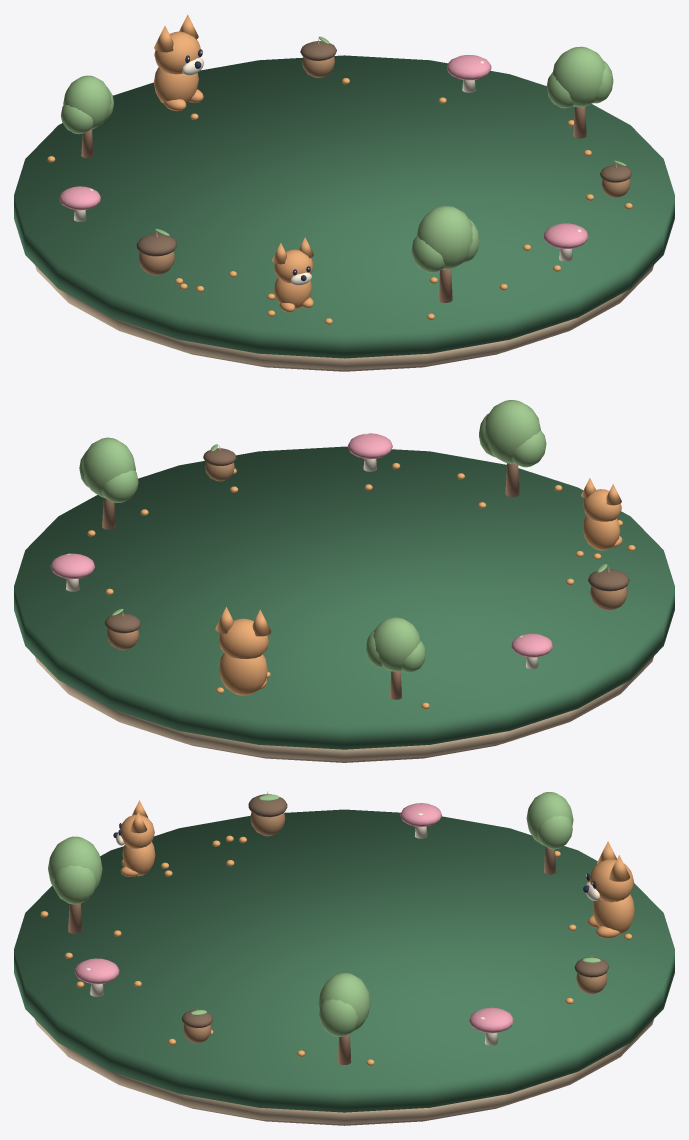
Rendered from world.glb.
The picture shows the model from 3 angles, top to bottom: view 1: azimuth 30°, elevation 25°; view 2: azimuth 150°, elevation 25°; view 3: azimuth 270°, elevation 25°; orthographic projection.
Parts seen in each view (by area): view 1: Cone, Cone.001, tree.003, tree.001, fox.001, tree.002, fox.002, acorn.002, acorn.001, mushroom.003, mushroom.001, mushroom.002 (+2 smaller); view 2: Cone, Cone.001, tree.003, fox.001, tree.001, tree.002, fox.002, acorn.002, acorn.001, mushroom.003, mushroom.001, mushroom.002 (+2 smaller); view 3: Cone, Cone.001, fox.001, tree.003, tree.001, tree.002, fox.002, acorn.002, mushroom.003, mushroom.001, acorn.001, mushroom.002 (+2 smaller).
Boxes of the visible parts, x1,y1,x2,y2 form: Cone: (14,55,674,358); Cone.001: (35,265,653,370); tree.003: (411,206,479,302); tree.001: (546,46,613,138); fox.001: (154,14,203,111); tree.002: (61,75,113,158); fox.002: (272,237,313,312); acorn.002: (136,228,176,275); acorn.001: (300,36,336,77); mushroom.003: (543,223,588,261); mushroom.001: (447,55,491,92); mushroom.002: (59,186,100,221); Cone: (14,446,674,749); Cone.001: (35,656,653,761); tree.003: (479,400,546,496); fox.001: (215,607,271,695); tree.001: (79,437,138,529); tree.002: (366,617,425,699); fox.002: (581,478,622,550); acorn.002: (588,564,629,610); acorn.001: (105,608,140,650); mushroom.003: (348,433,392,471); mushroom.001: (50,553,94,591); mushroom.002: (511,633,552,669); Cone: (14,809,674,1112); Cone.001: (35,1019,653,1124); fox.001: (583,841,634,938); tree.003: (48,836,102,933); tree.001: (318,973,370,1064); tree.002: (526,792,573,874); fox.002: (113,800,155,876); acorn.002: (248,791,287,836); mushroom.003: (74,958,119,996); mushroom.001: (469,1007,513,1045); acorn.001: (574,955,609,994); mushroom.002: (400,803,441,838).
Bounding box in the file's own units: 9.6 × 2.27 × 9.6.
